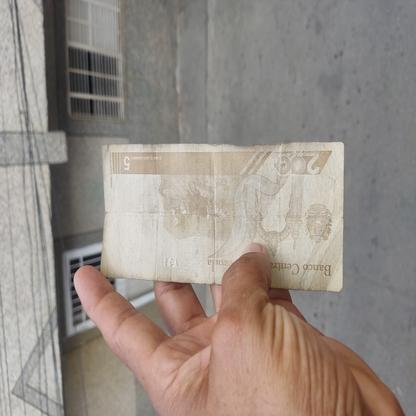five-back-vef: (101, 141, 344, 292)
